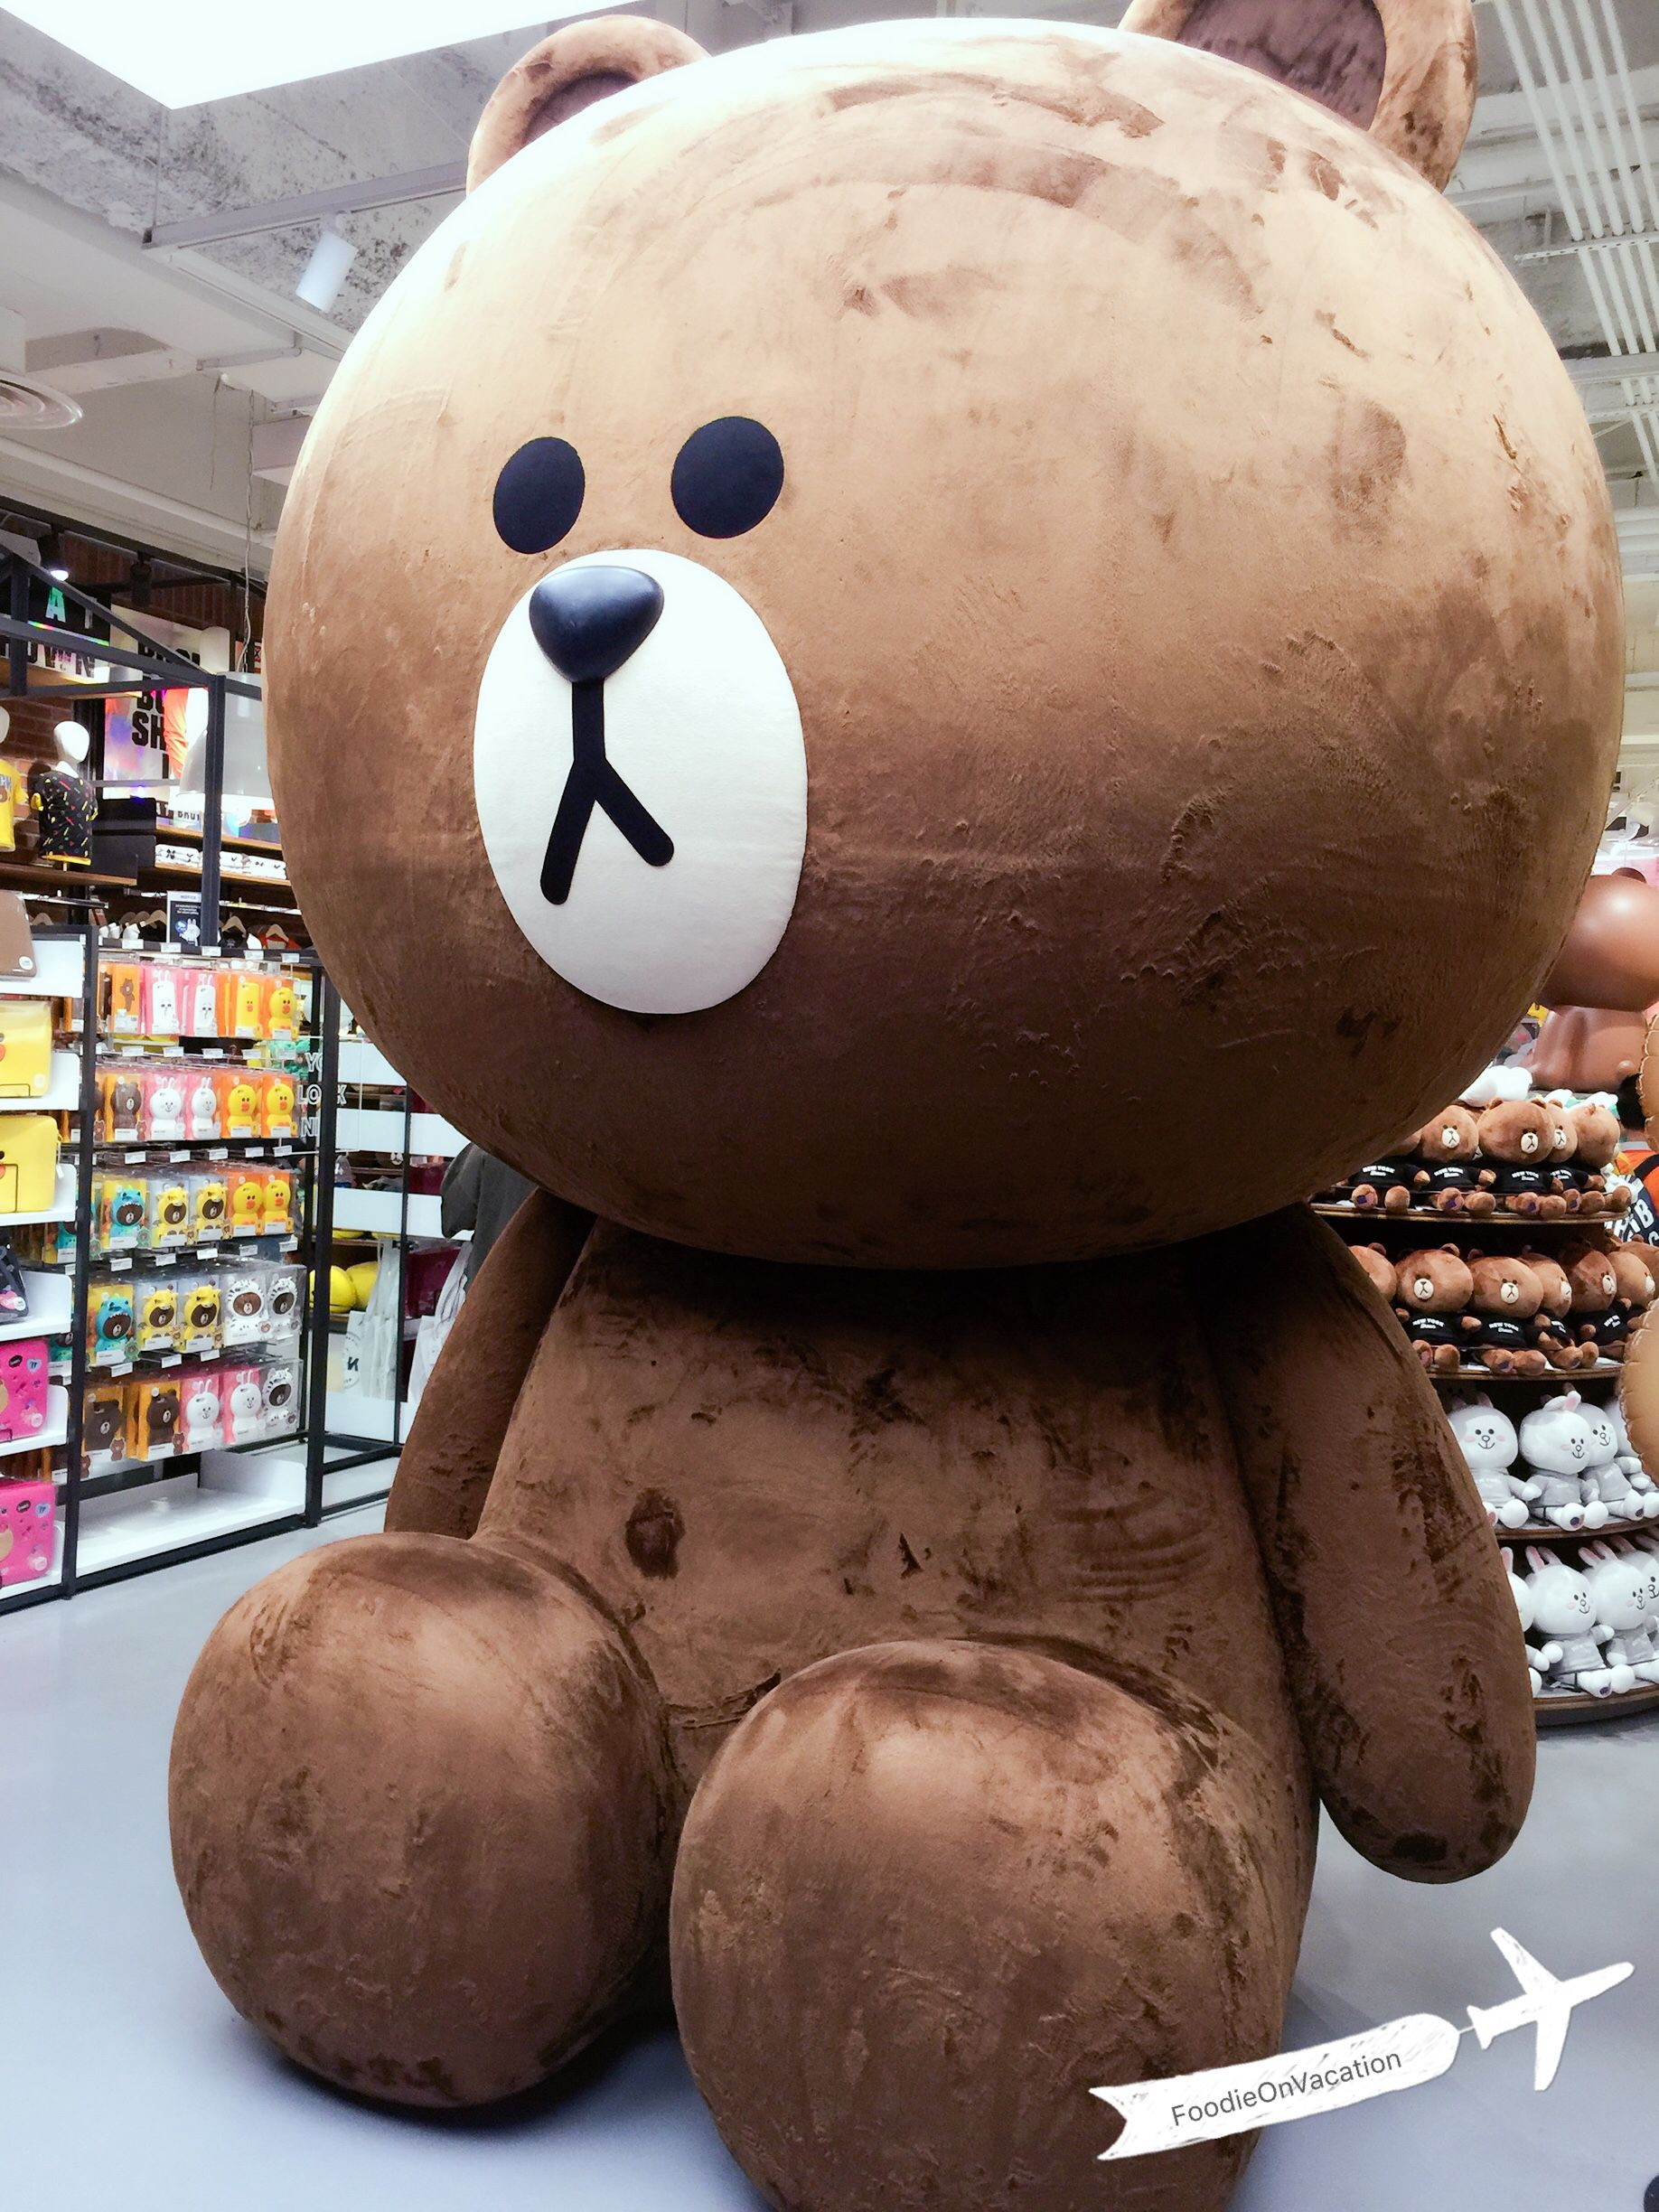line_brown: (232, 12, 1588, 1318)
